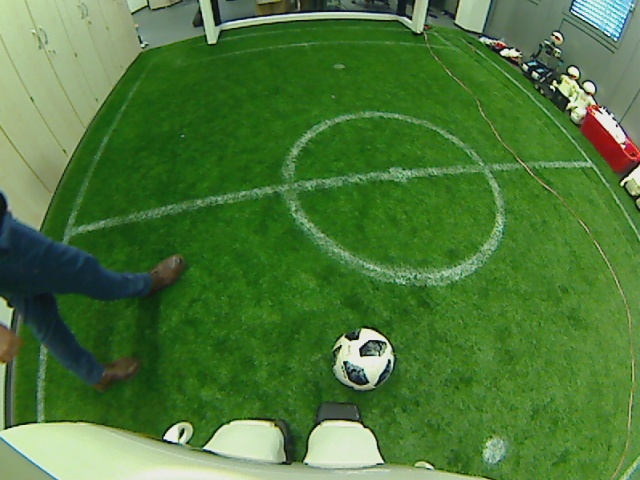ball: (330, 326, 395, 392)
